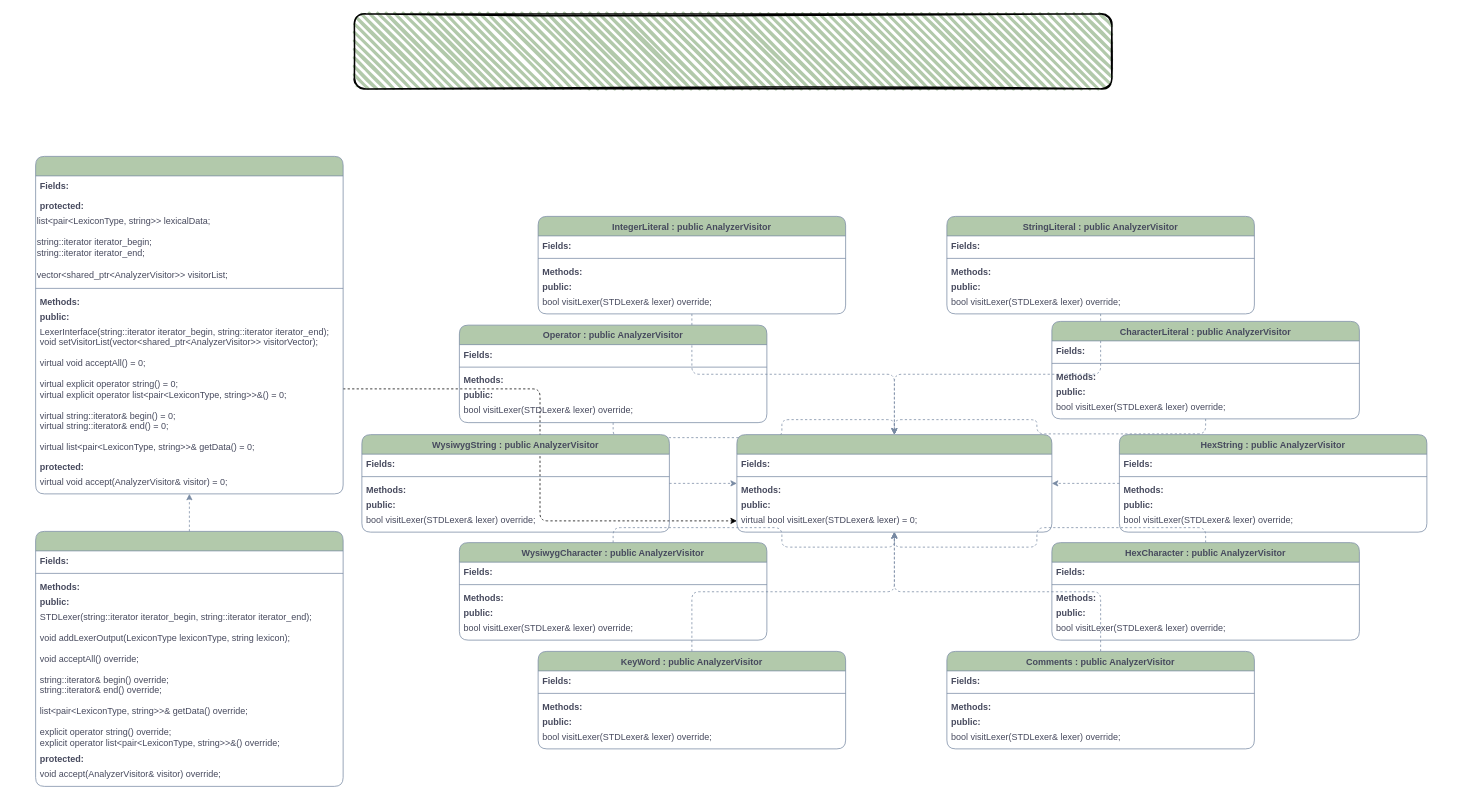
This 1466x801 diagram has some shape labels left out. The shapes that lost their labels are listed below. From the top down, each one's box as (x1, y1, x2, y2) in pixels, then its label:
(353, 13, 1112, 89): Лексер с использованием паттерна "Visitor"
(35, 156, 343, 494): LexerInterface (Interface)
(736, 434, 1052, 532): AnalyzerVisitor (Interface)
(35, 531, 343, 786): STDLexer : public LexerInterface
